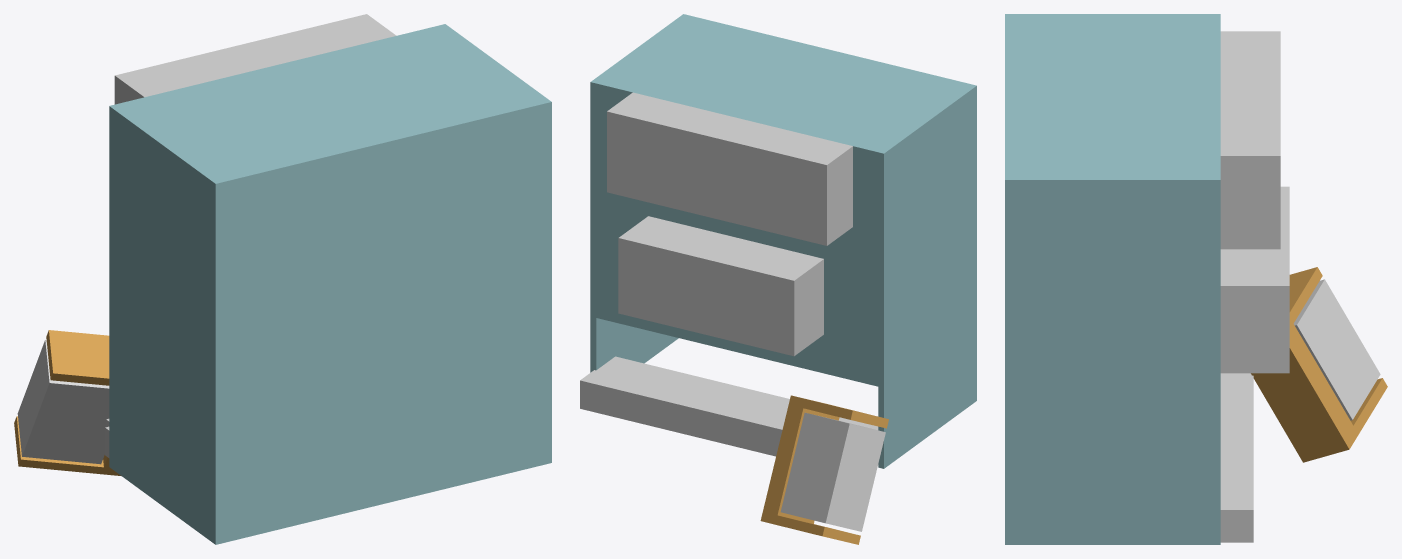
The model's file is 3D shapes project.glb.
3 renders of one model, left to right at view 1: azimuth 30°, elevation 25°; view 2: azimuth 150°, elevation 25°; view 3: azimuth 270°, elevation 25°, orthographic. The views are drawn at different scales.
Parts seen in each view (by area): view 1: Mesh_Mesh_head_geo.001_lambert2SG.001; view 2: Mesh_Mesh_head_geo.001_lambert2SG.001; view 3: Mesh_Mesh_head_geo.001_lambert2SG.001.
Boxes of the visible parts, x1=… form: Mesh_Mesh_head_geo.001_lambert2SG.001: x1=14, y1=14, x2=551, y2=544; Mesh_Mesh_head_geo.001_lambert2SG.001: x1=580, y1=14, x2=976, y2=544; Mesh_Mesh_head_geo.001_lambert2SG.001: x1=1005, y1=14, x2=1387, y2=544.
Bounding box in the file's own units: 83 × 89.66 × 74.13.
